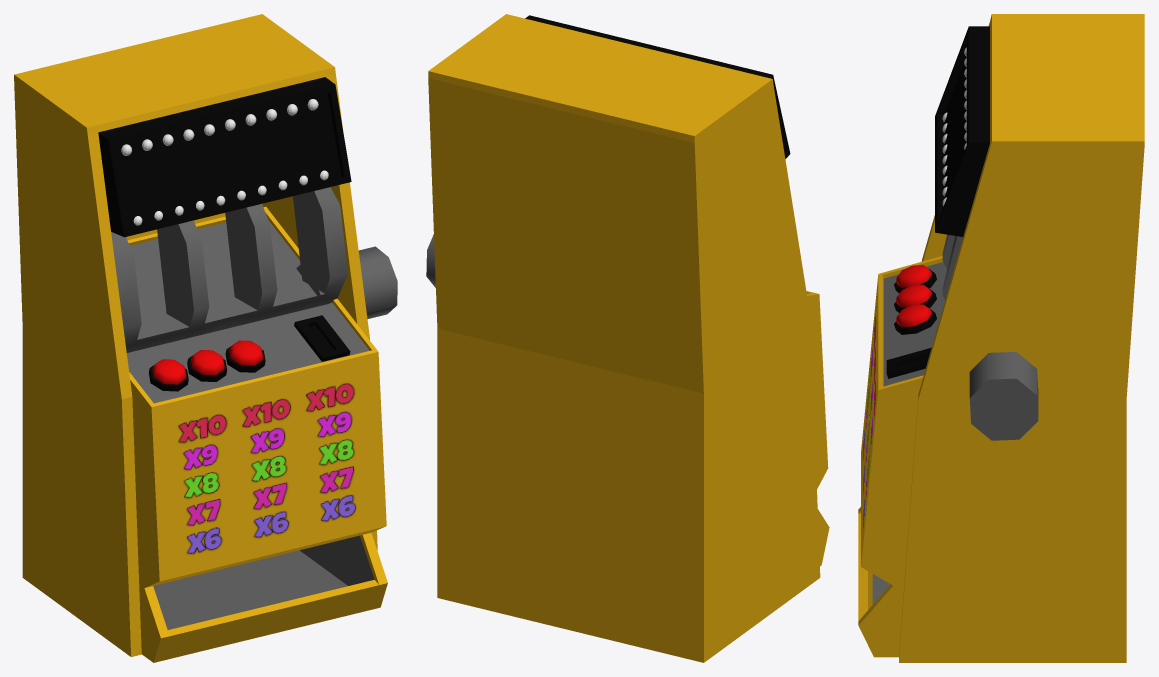
The model's file is BASECASINO.fbx.
3 renders of one model, left to right at view 1: azimuth 30°, elevation 25°; view 2: azimuth 150°, elevation 25°; view 3: azimuth 270°, elevation 25°, orthographic. The views are drawn at different scales.
Visible parts, largest first — view 1: Cube.002; view 2: Cube.002; view 3: Cube.002.
Boxes of the visible parts, box(x1,y1,x2,y2) form: Cube.002: box(14, 14, 397, 662); Cube.002: box(426, 14, 829, 662); Cube.002: box(858, 14, 1144, 662).
Bounding box in the file's own units: 368 × 582 × 289.
6 materials, 1 textured.
